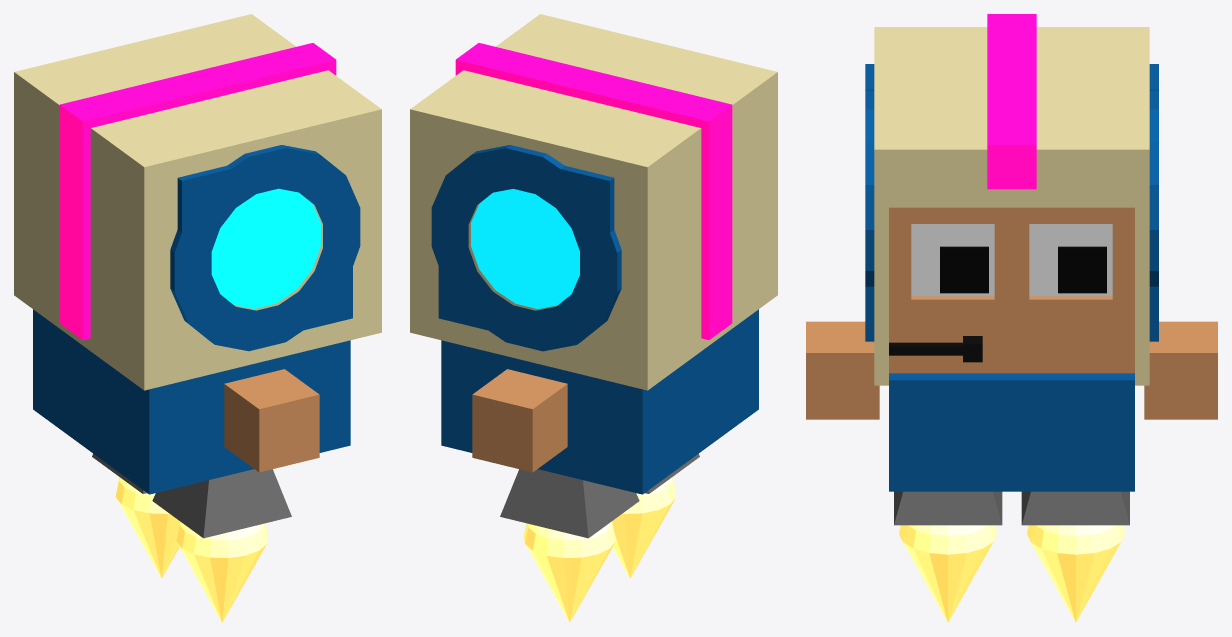
File: hero.glb
3 views of the same model, side by side, from view 1: azimuth 30°, elevation 25°; view 2: azimuth 150°, elevation 25°; view 3: azimuth 270°, elevation 25° (orthographic). The views are drawn at different scales.
Visible parts, largest first — view 1: hero-helmet, hero, hero-helmet-side.R, hero-helmet-glow, hero-helmet-glow.R, hero-arm.R, hero-leg.R, hero-glow.R, hero-glow.L; view 2: hero-helmet, hero, hero-helmet-side.L, hero-helmet-glow, hero-helmet-glow.L, hero-arm.L, hero-leg.L, hero-glow.L, hero-glow.R; view 3: hero-helmet, hero, hero-head, hero-helmet-glow, hero-arm.R, hero-arm.L, hero-glow.L, hero-glow.R, hero-whites.L, hero-whites.R, hero-leg.L, hero-leg.R (+5 smaller).
Part boxes in pixels (left/top/right/bottom): hero-helmet: left=14, top=14, right=381, bottom=390; hero: left=33, top=309, right=350, bottom=494; hero-helmet-side.R: left=170, top=145, right=360, bottom=351; hero-helmet-glow: left=59, top=43, right=336, bottom=339; hero-helmet-glow.R: left=211, top=188, right=320, bottom=308; hero-arm.R: left=224, top=369, right=319, bottom=472; hero-leg.R: left=152, top=469, right=291, bottom=538; hero-glow.R: left=176, top=521, right=268, bottom=622; hero-glow.L: left=115, top=477, right=179, bottom=578; hero-helmet: left=410, top=14, right=777, bottom=390; hero: left=441, top=309, right=758, bottom=494; hero-helmet-side.L: left=431, top=145, right=621, bottom=351; hero-helmet-glow: left=455, top=43, right=732, bottom=339; hero-helmet-glow.L: left=471, top=189, right=579, bottom=308; hero-arm.L: left=472, top=369, right=567, bottom=472; hero-leg.L: left=500, top=469, right=639, bottom=538; hero-glow.L: left=523, top=521, right=615, bottom=622; hero-glow.R: left=612, top=477, right=676, bottom=578; hero-helmet: left=874, top=27, right=1149, bottom=385; hero: left=889, top=373, right=1134, bottom=491; hero-head: left=889, top=207, right=1134, bottom=373; hero-helmet-glow: left=987, top=14, right=1036, bottom=189; hero-arm.R: left=806, top=321, right=879, bottom=419; hero-arm.L: left=1144, top=321, right=1217, bottom=419; hero-glow.L: left=1027, top=525, right=1124, bottom=622; hero-glow.R: left=899, top=525, right=996, bottom=622; hero-whites.L: left=1029, top=224, right=1112, bottom=296; hero-whites.R: left=911, top=224, right=994, bottom=296; hero-leg.L: left=1021, top=491, right=1129, bottom=525; hero-leg.R: left=894, top=491, right=1002, bottom=525.
Bounding box in the file's own units: 0.63 × 1.23 × 0.838.
